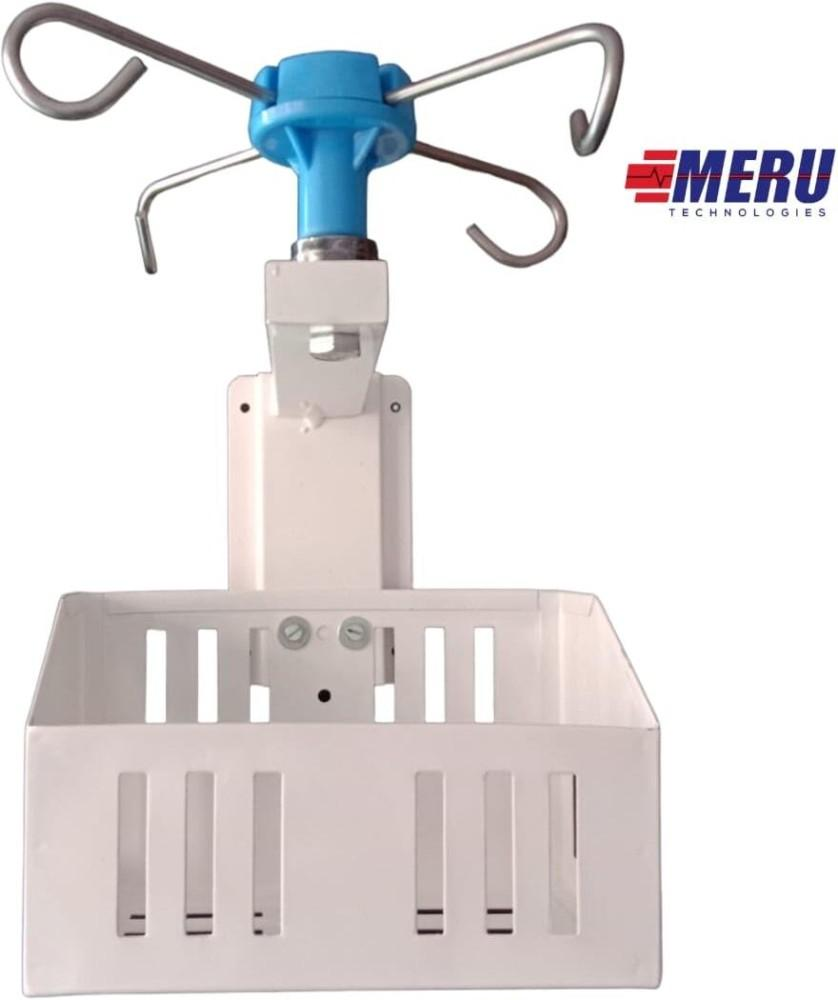Saline Stand: (2, 3, 664, 994)
